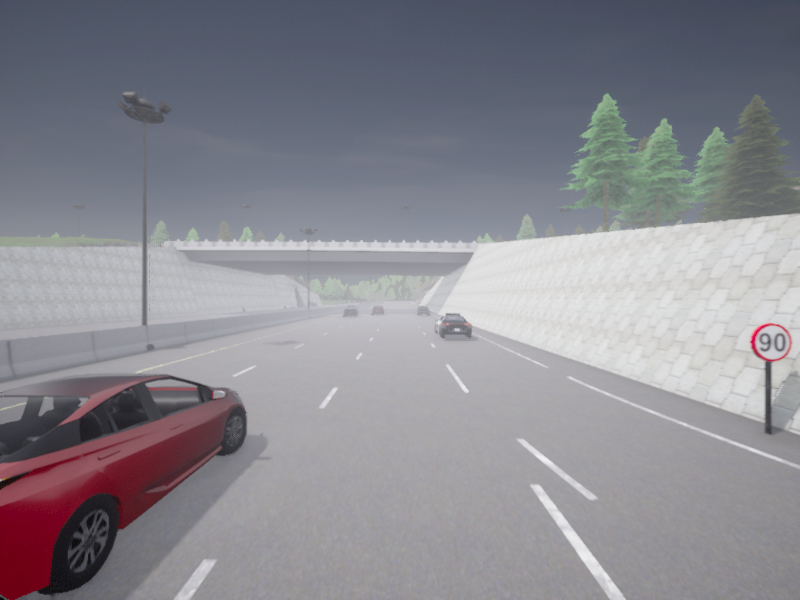vehicle: (0, 373, 246, 599), (435, 313, 471, 337), (344, 305, 359, 316), (416, 306, 429, 315), (372, 305, 384, 314)
